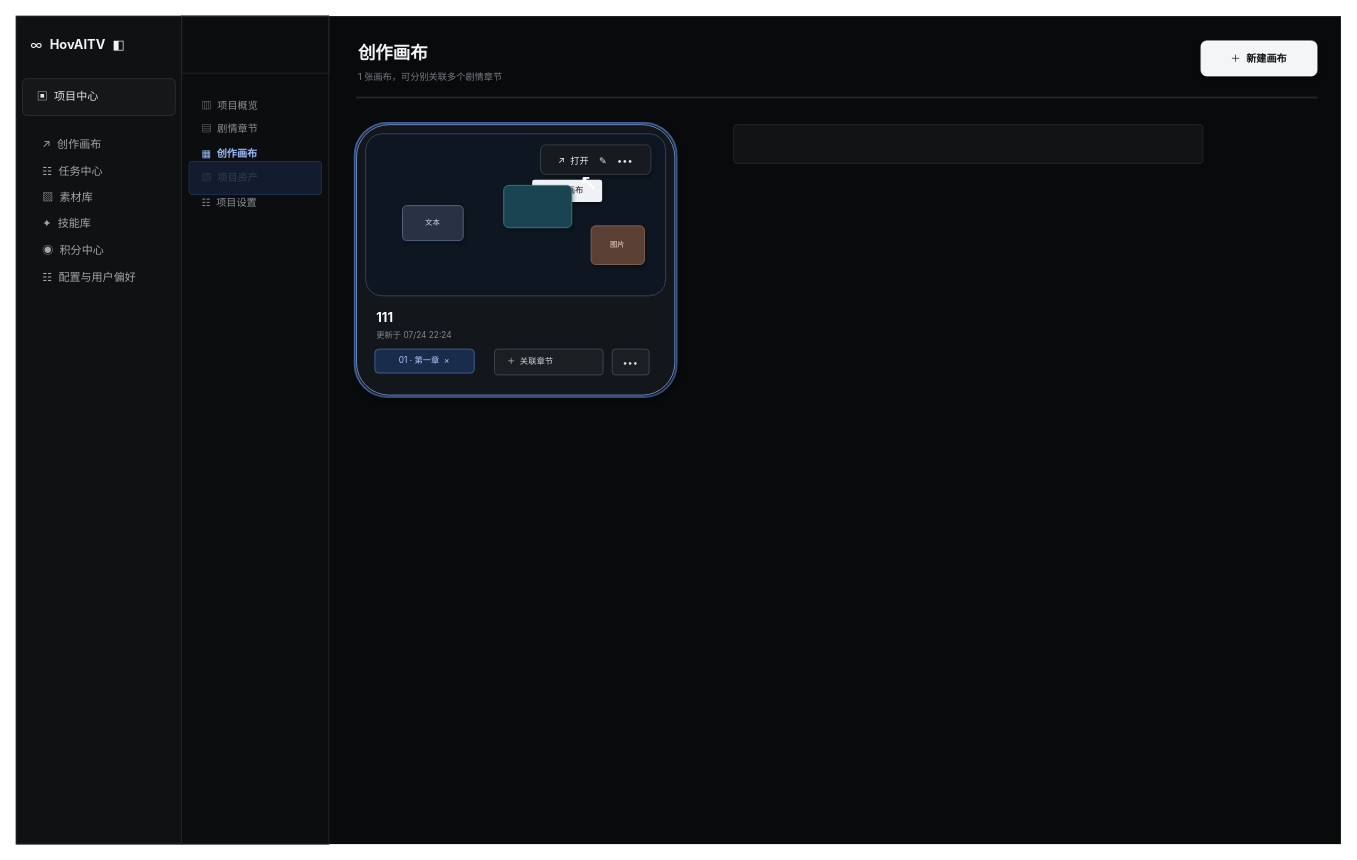
The diagram is 1357 pixels wide and 860 high, and some of its shapes have lost their labels. Each missing label, with the centre of its shape:
‹ ▱ 测试项目 1 ● 进行中: (255,44)
分镜: (538,207)
悬停反馈：卡片上移 2px，描边变亮，节点表面增强；快捷工具条 160ms 淡入，离开即消失。: (968,143)
